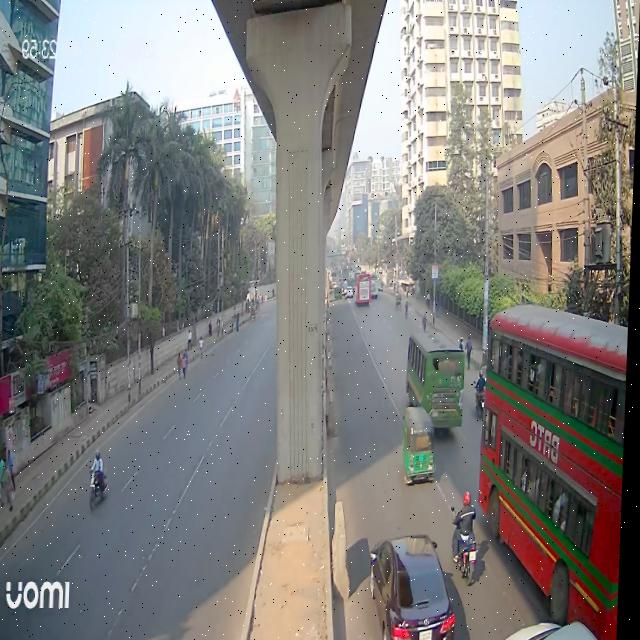cng: (400, 394, 445, 496)
